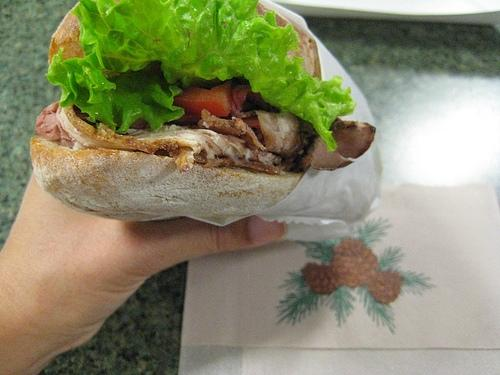lettuce: (46, 0, 357, 152)
tomato: (174, 80, 233, 118)
